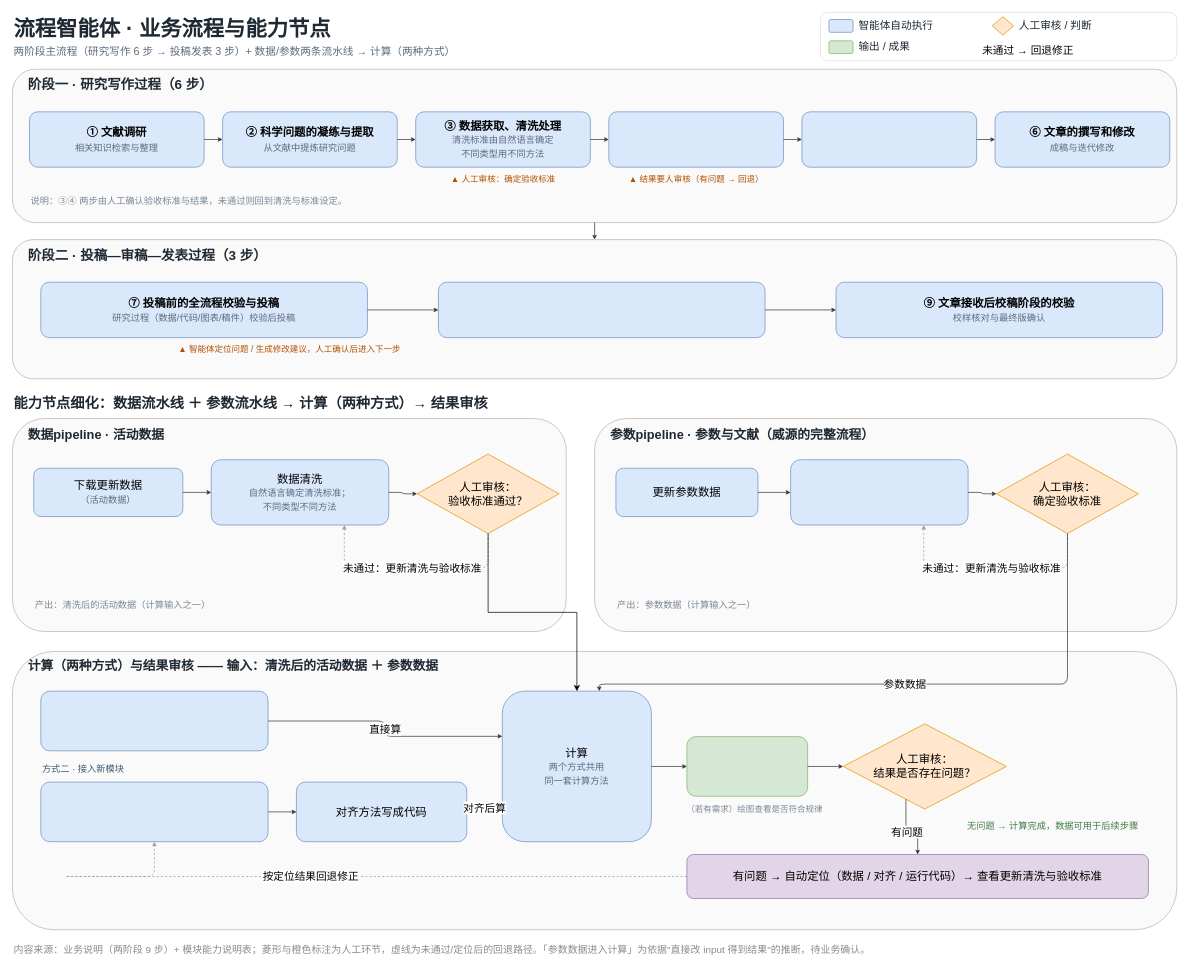
Some shapes in this 1189 by 971 pixel diagram are drawn without their labels. Each missing label, with the box of its shape:
④ 模型的选择与运行 运行模型 → 得到结果: (608, 111, 783, 167)
⑤ 图表的绘制 结果可视化: (801, 111, 977, 167)
⑧ 回复评审意见与最终校验 按评审意见修改并回复，最终校验: (438, 282, 765, 338)
数据对齐 自然语言形成对齐文档 + 人工审核: (40, 781, 268, 842)
文献数据挖掘 （威源的完整流程）: (790, 459, 968, 525)
方式一 · 直接计算 计算方法不变，直接改 input 得到结果: (40, 690, 268, 751)
输出数据: (686, 736, 808, 796)
